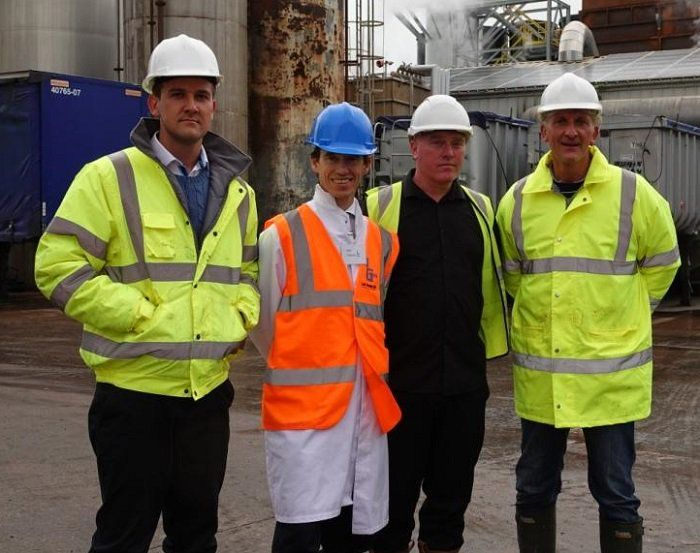Helmet: (137, 29, 234, 151), (530, 72, 620, 182), (304, 93, 386, 210), (402, 91, 479, 193)
Reflective vest: (29, 140, 265, 401), (496, 150, 681, 434), (263, 203, 404, 441)
